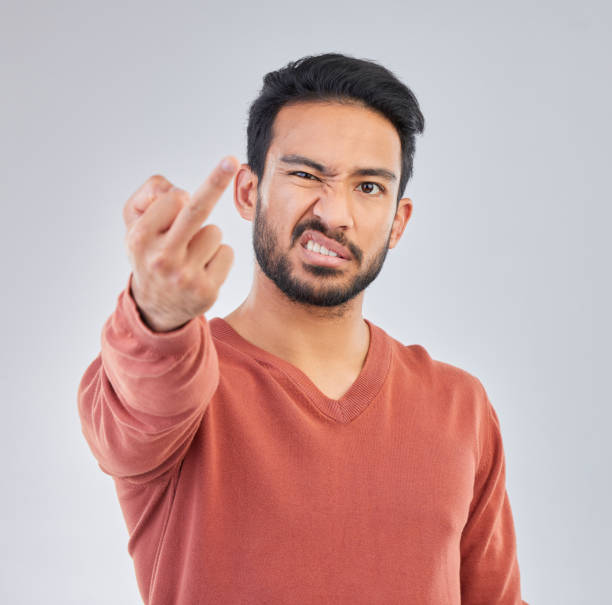insulting_gesture: (121, 153, 243, 333)
